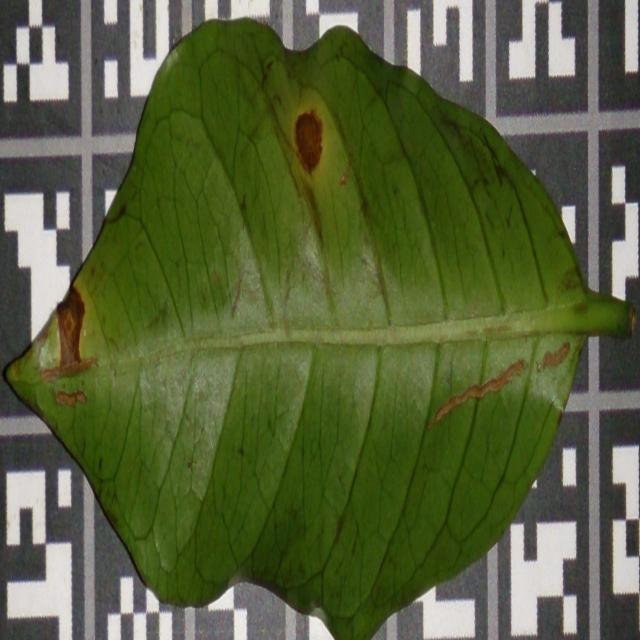Enfermedad-Mancha-de-hierro: (6, 20, 634, 640)
